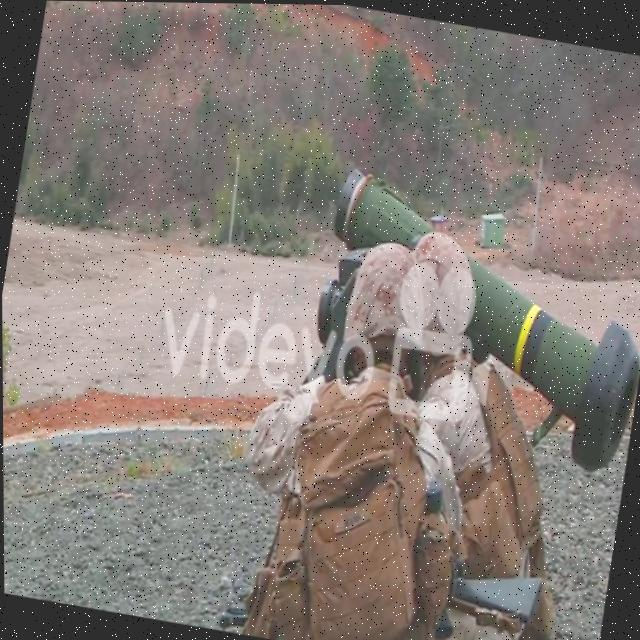rocket: (306, 155, 640, 483)
